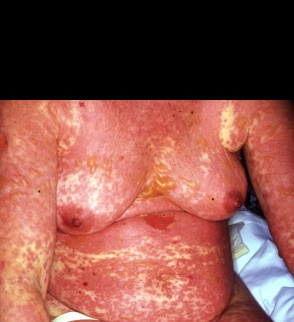SJS-TEN: (0, 95, 294, 322)
